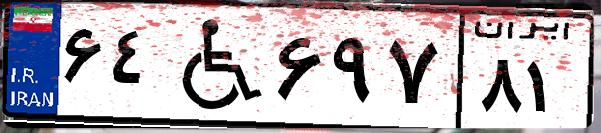1: (525, 38, 570, 115)
4: (110, 28, 158, 98)
6: (270, 28, 330, 110), (57, 26, 110, 100)
7: (385, 28, 445, 110)
8: (475, 38, 525, 113)
9: (330, 28, 385, 110)
ژ (معلولین و جانبازان): (158, 12, 270, 120)
